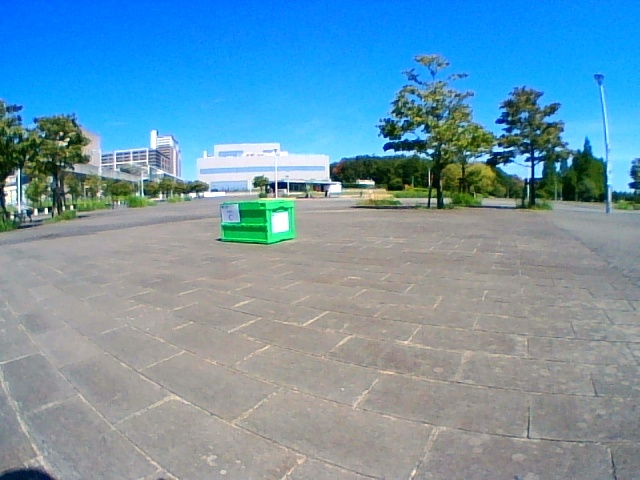green_box: (220, 199, 295, 243)
tag: (222, 204, 238, 222)
